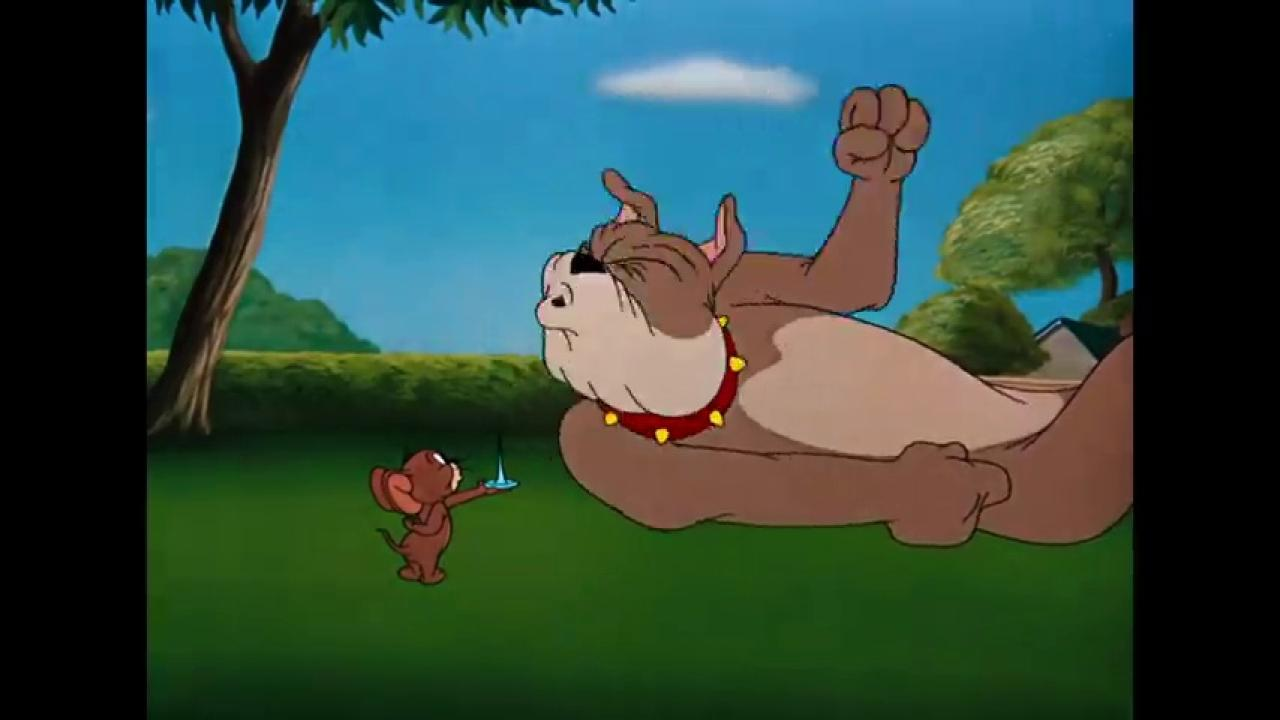Jerry: (368, 443, 504, 586)
